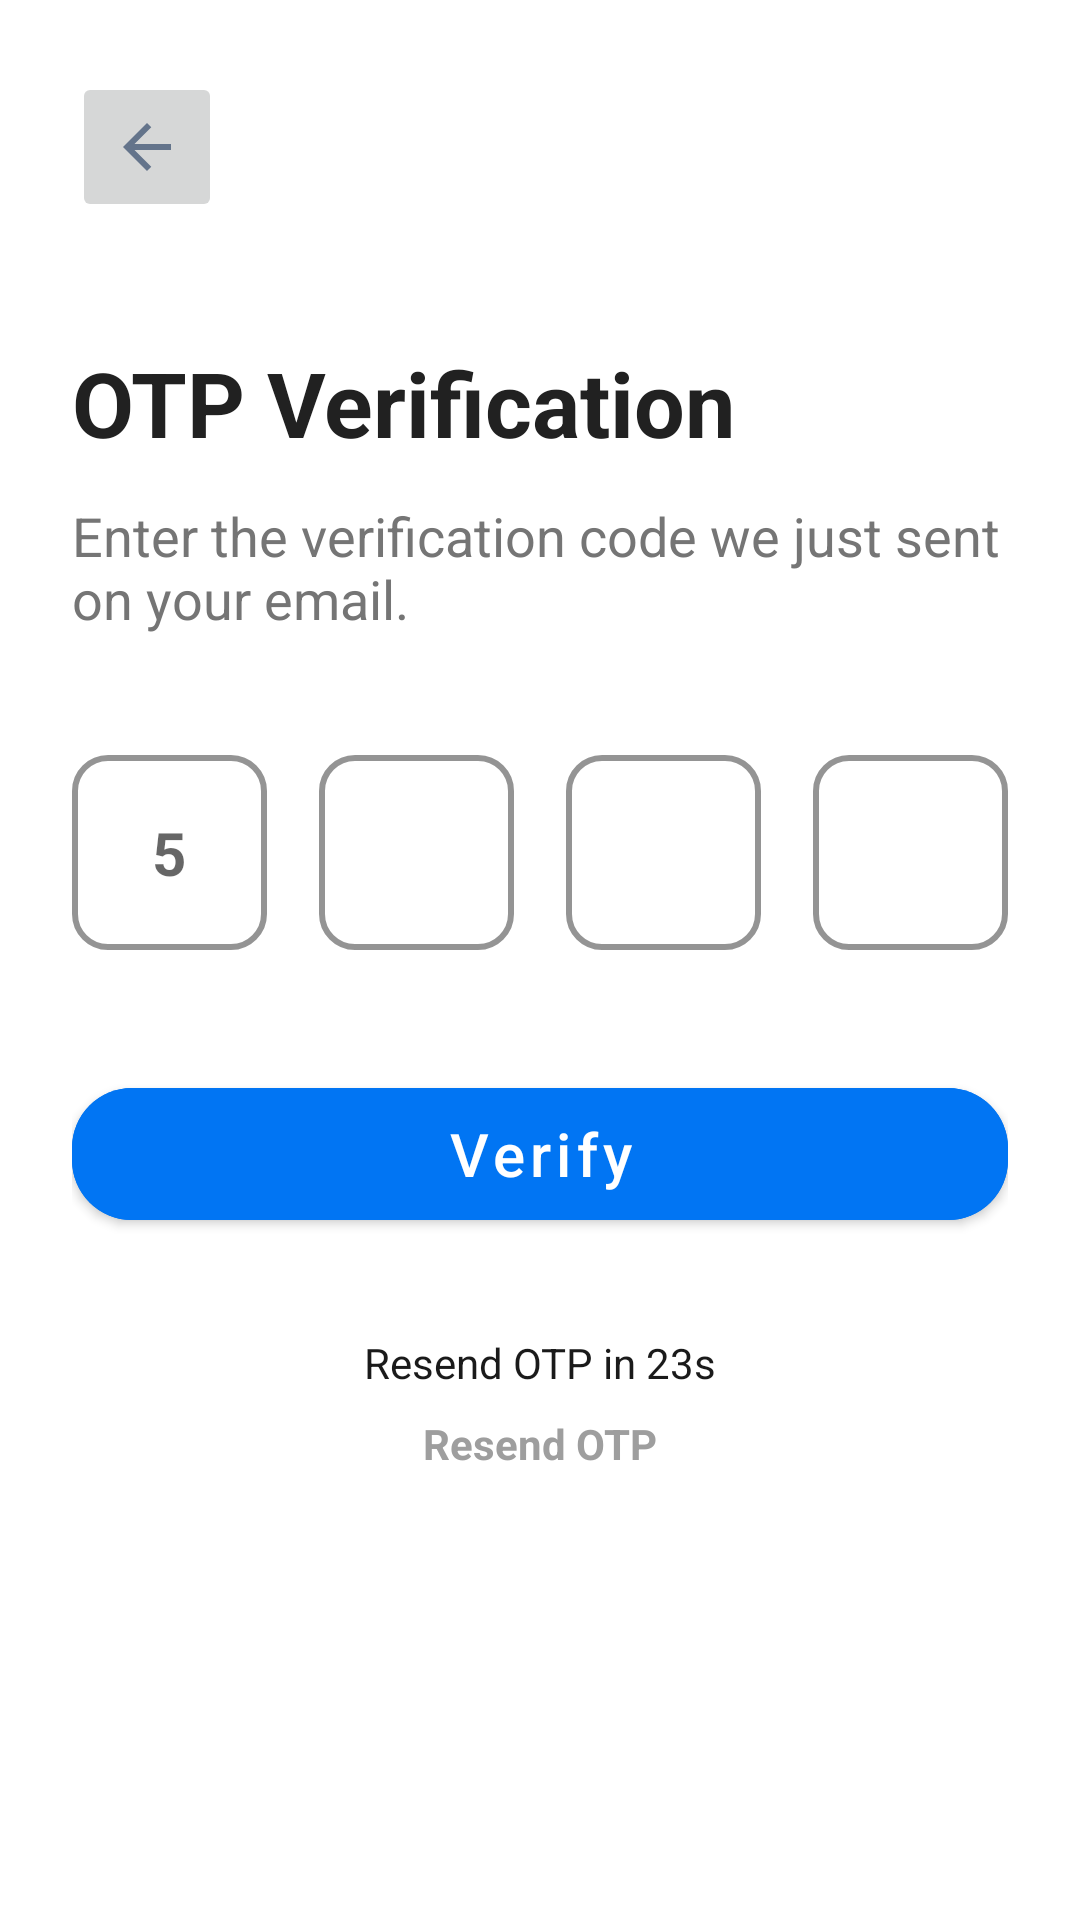

Icon click points for this 1080×1920 phone screenshot, format (x=x, y=y):
back: (x=147, y=147)
